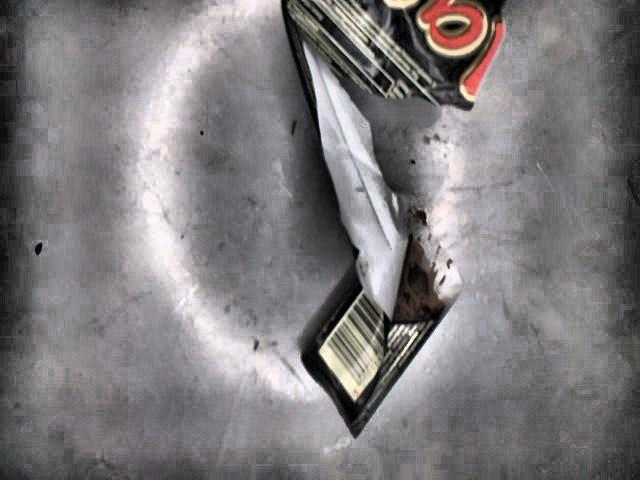Almennt: (391, 235, 441, 327)
Plastic: (283, 0, 511, 441)
